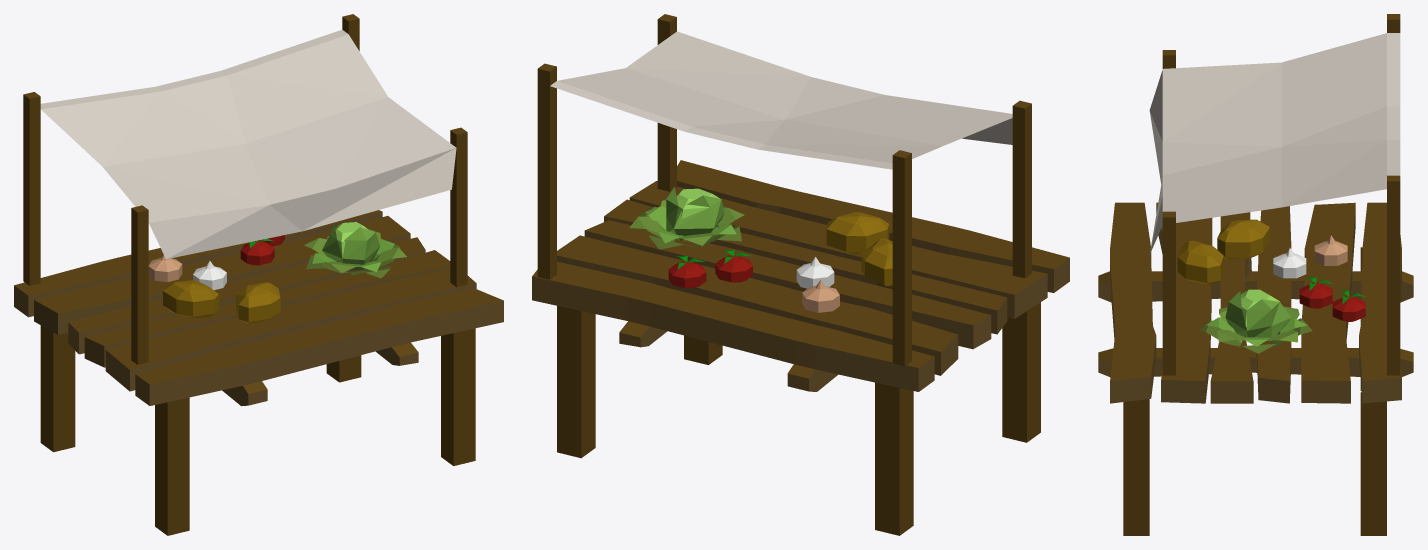
Rendered from vegetable-shops.gltf.
3 renders of one model, left to right at view 1: azimuth 30°, elevation 25°; view 2: azimuth 150°, elevation 25°; view 3: azimuth 270°, elevation 25°, orthographic. The views are drawn at different scales.
Bounding box in the file's own units: 256 × 241 × 191.
1 material, 1 textured.
